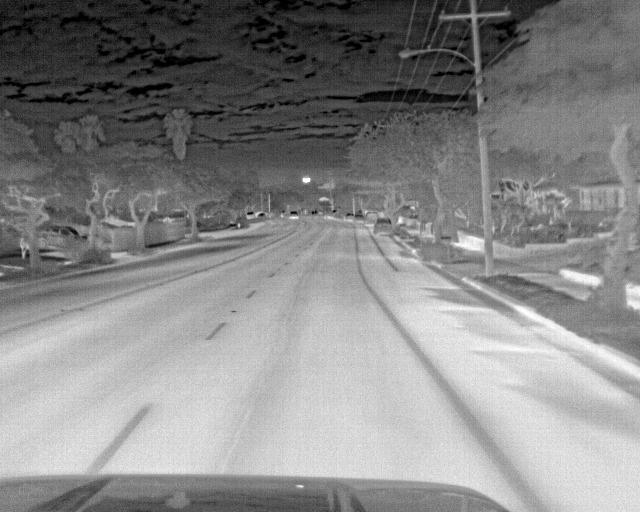car: (42, 223, 87, 241), (372, 218, 396, 237), (353, 211, 366, 224), (287, 209, 301, 221), (244, 209, 256, 221)
